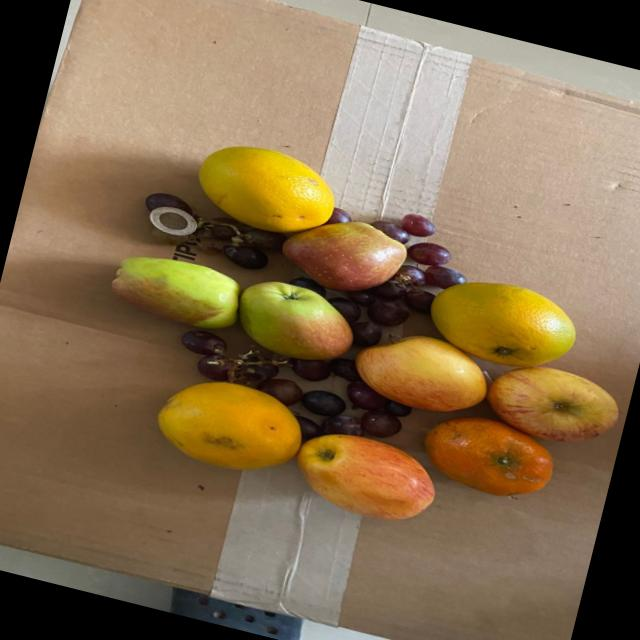moneda: (140, 202, 202, 241)
